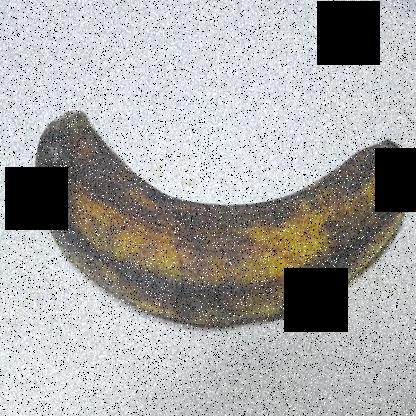overripe: (22, 100, 415, 338)
rotten: (27, 95, 99, 233)
